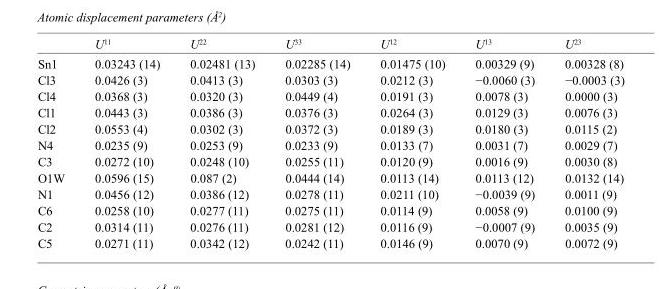table: (36, 36, 623, 249)
table column: (79, 36, 174, 249), (174, 36, 269, 249), (269, 36, 364, 249), (364, 36, 459, 249), (459, 36, 549, 249), (549, 36, 623, 249), (36, 36, 79, 249)
table column header: (36, 36, 623, 53)
table row: (36, 53, 623, 71), (36, 36, 623, 53), (36, 87, 623, 104), (36, 136, 623, 153), (36, 185, 623, 202), (36, 71, 623, 87), (36, 104, 623, 120), (36, 120, 623, 136), (36, 153, 623, 169), (36, 169, 623, 185), (36, 202, 623, 218), (36, 218, 623, 234), (36, 234, 623, 249)
